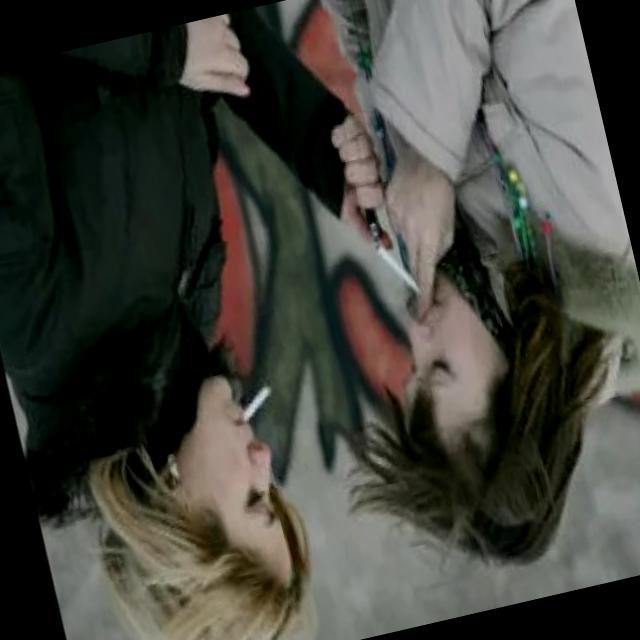smoke: (364, 232, 426, 308), (228, 377, 280, 426)
